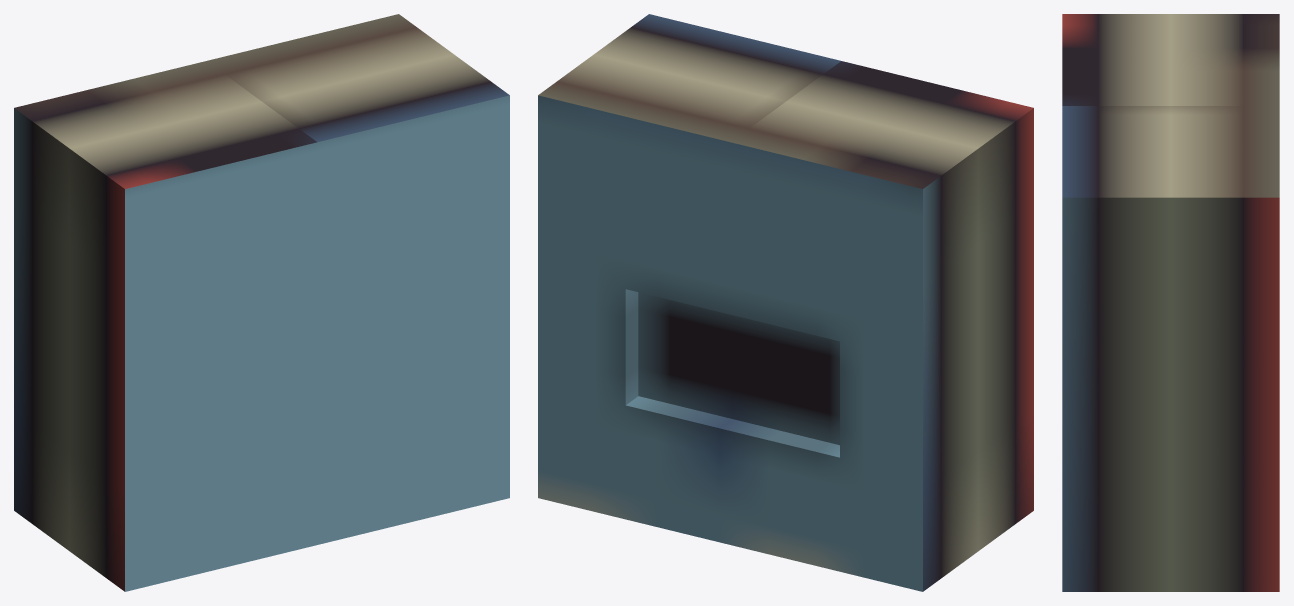
Rendered from casa1_paret1.fbx.
3 renders of one model, left to right at view 1: azimuth 30°, elevation 25°; view 2: azimuth 150°, elevation 25°; view 3: azimuth 270°, elevation 25°, orthographic. The views are drawn at different scales.
Visible parts, largest first — view 1: Wall1.012; view 2: Wall1.012; view 3: Wall1.012.
Boxes of the visible parts, box(x1,y1,x2,y2) form: Wall1.012: box(14, 14, 509, 591); Wall1.012: box(538, 14, 1033, 591); Wall1.012: box(1062, 14, 1279, 591).
Bounding box in the file's own units: 200 × 200 × 100.
